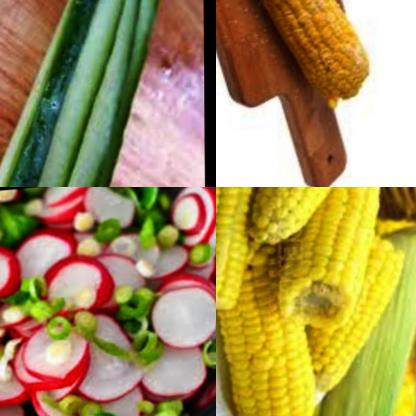corn: (302, 236, 415, 416), (216, 0, 373, 119), (277, 187, 394, 338), (223, 237, 318, 416), (251, 187, 389, 248), (216, 187, 268, 329)
cucumber: (0, 0, 184, 187)
rediska: (22, 305, 141, 416), (0, 220, 111, 330), (147, 271, 216, 357), (137, 342, 208, 416), (42, 187, 137, 238), (98, 239, 172, 301), (168, 187, 216, 259), (0, 191, 21, 220)
